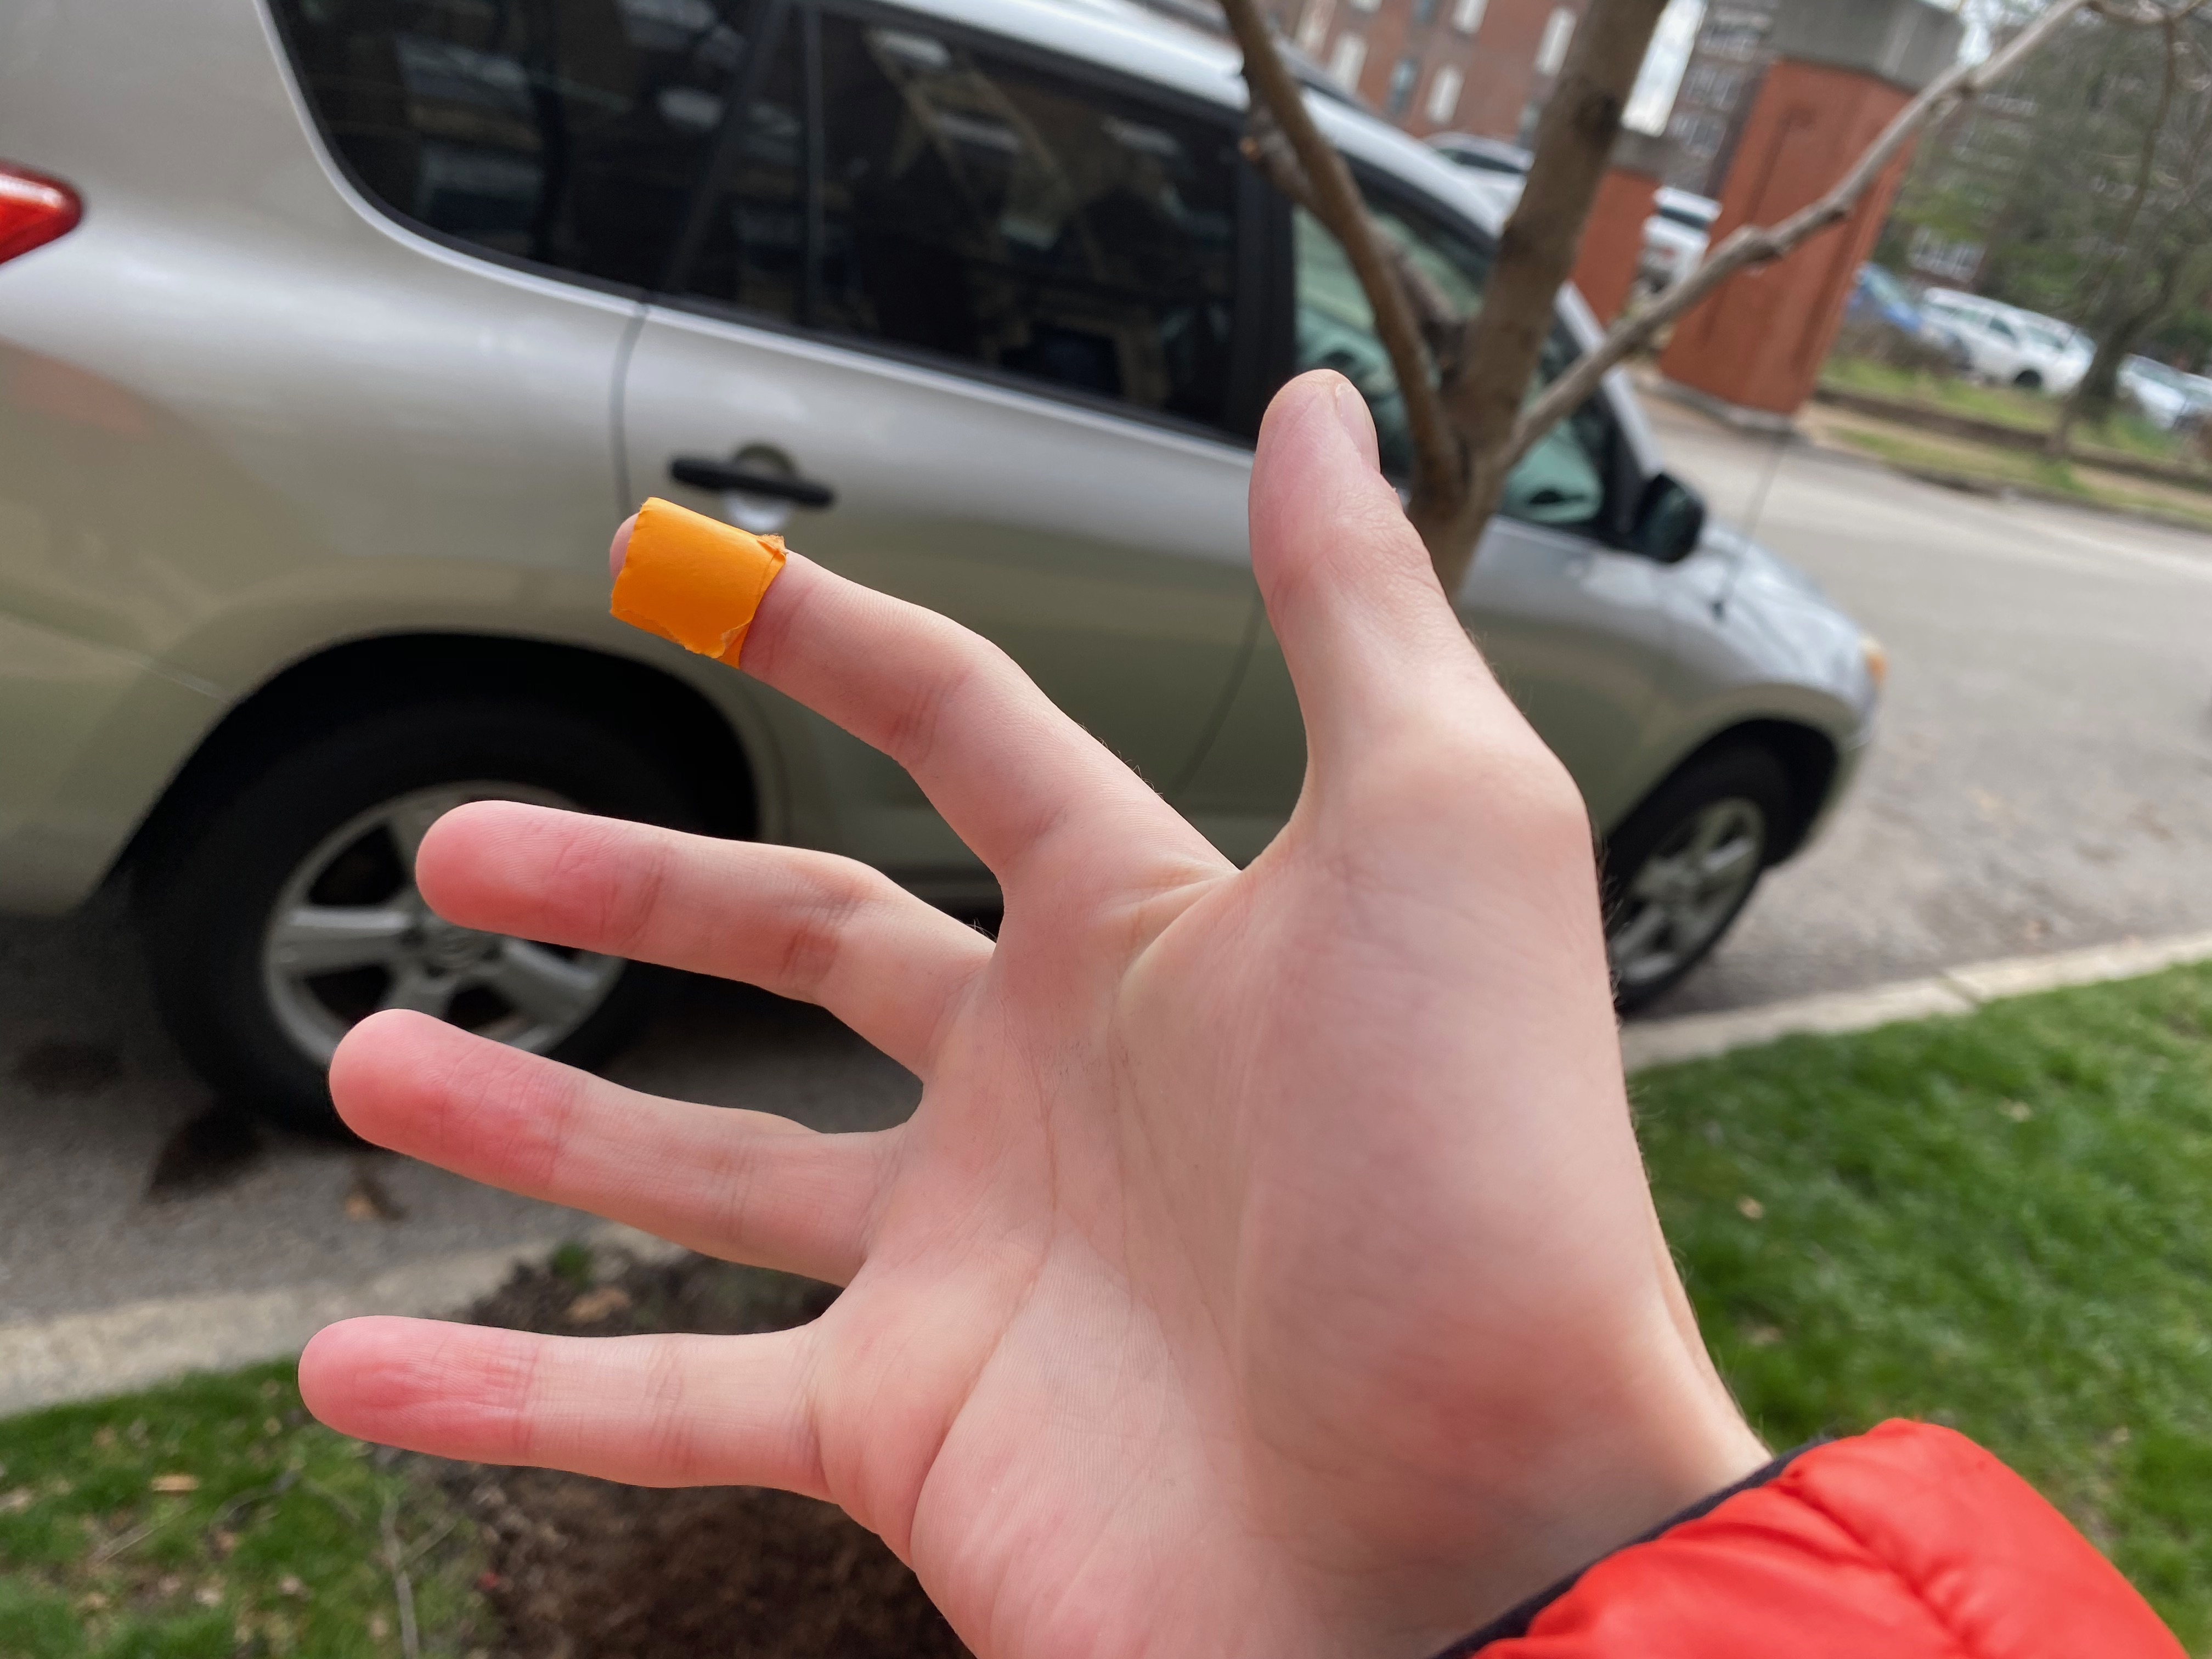fingertip: (549, 469, 826, 713)
